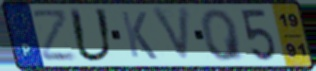5: (239, 7, 278, 63)
K: (118, 9, 160, 62)
Q: (198, 8, 248, 63)
U: (66, 6, 116, 64)
V: (149, 6, 193, 66)
Z: (30, 7, 79, 63)
